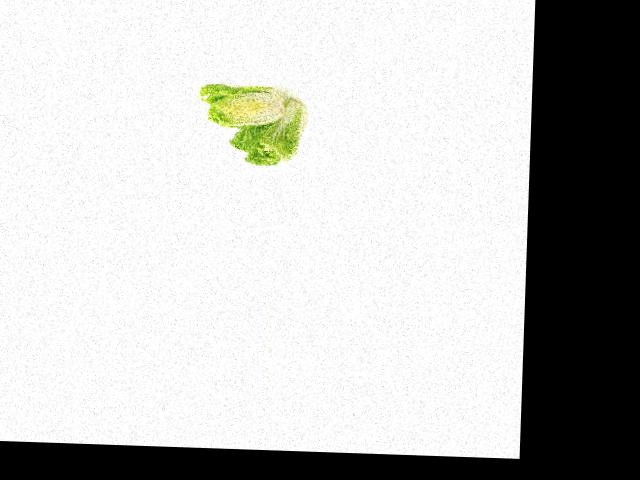lettuce: (224, 92, 310, 170)
